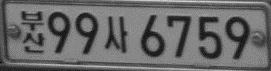5: (197, 15, 223, 59)
6: (139, 13, 164, 57)
7: (166, 14, 191, 57)
9: (224, 15, 250, 59), (74, 12, 100, 55), (46, 11, 71, 54)
부산_V: (20, 10, 45, 54)
사: (103, 15, 129, 54)
